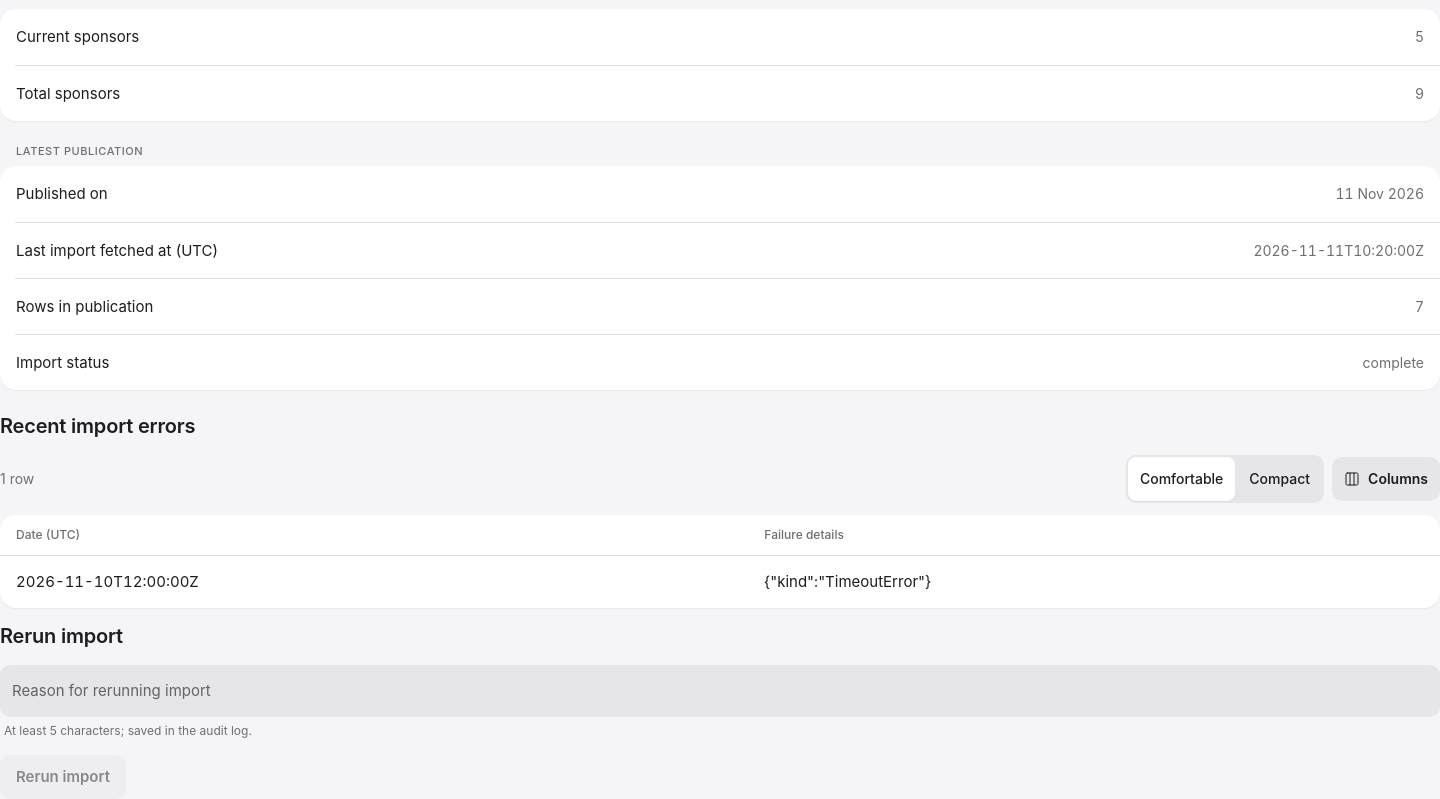
Test case: requires five trimmed characters then confirms and queues only the safe endpoint
This screenshot has width=1440, height=799.
(page scrolled)
Expected: the button "Rerun import" is disabled, [0, 754, 126, 798]
In the field labelled "Reason for rerunning import": {"x": 694, "y": 690} [12, 664, 1376, 716], type "    abcd    "
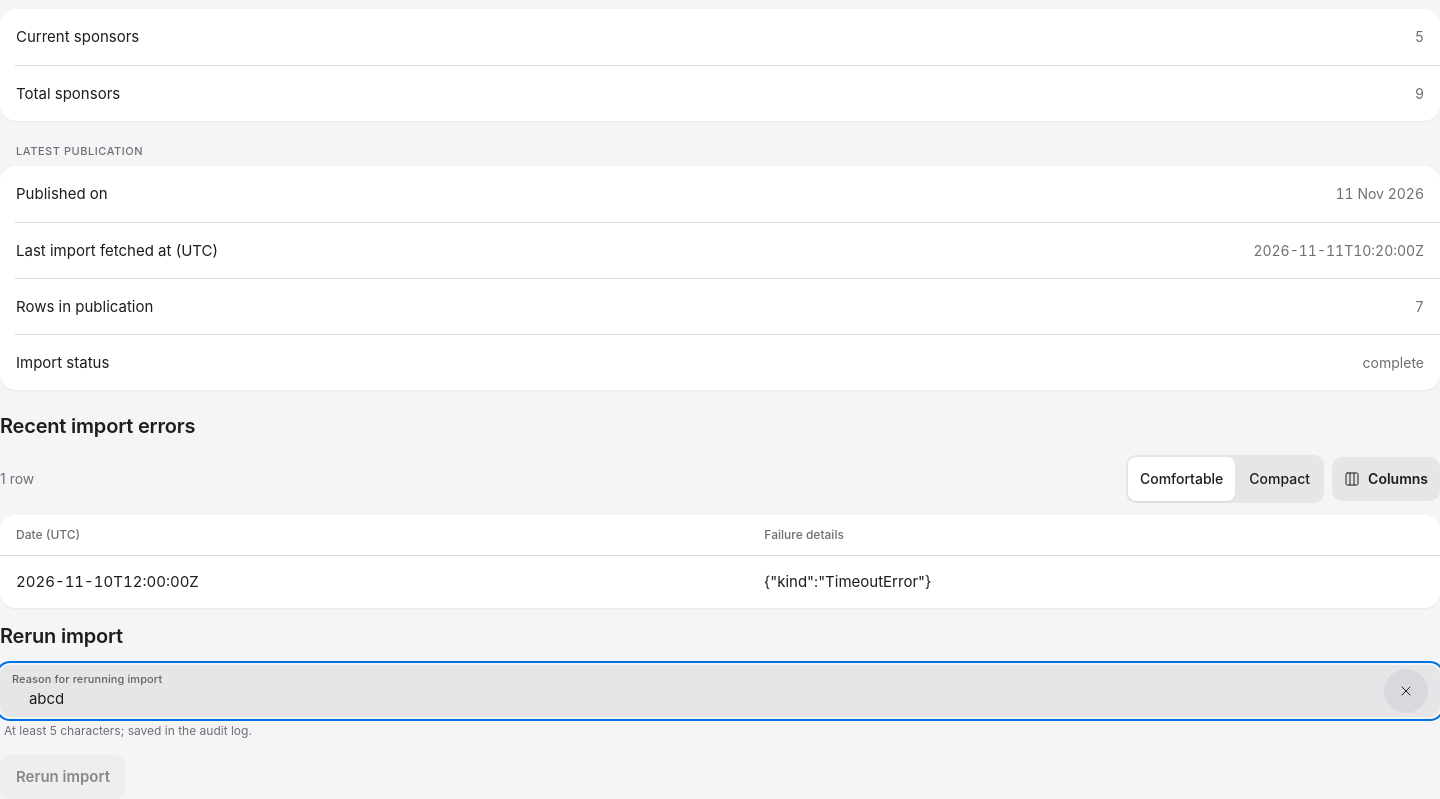
Expected: the button "Rerun import" is disabled, [0, 754, 126, 798]
Replace the text in the field labelled "Reason for rerunning import" with "  Source recovered  ": {"x": 694, "y": 690} [12, 664, 1376, 716]
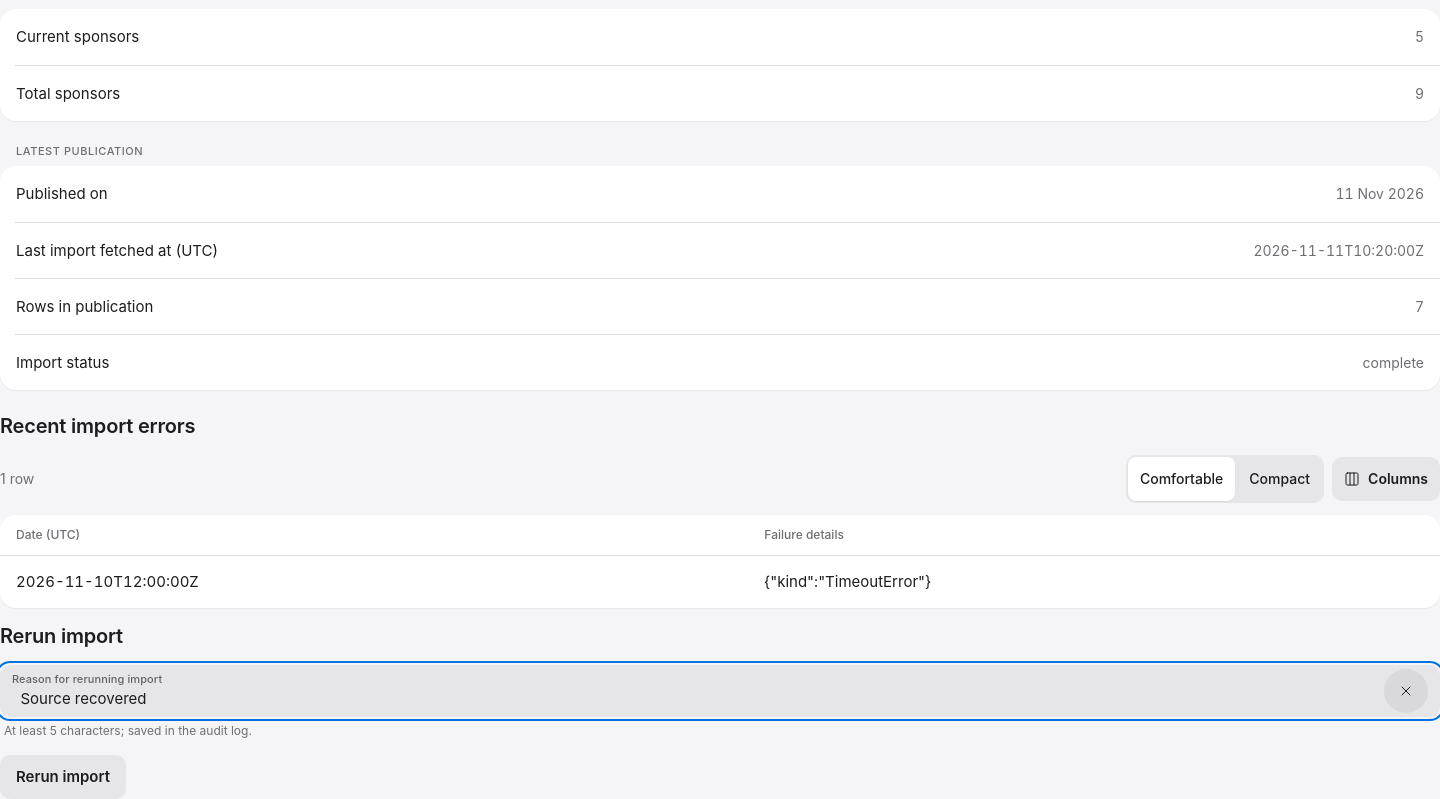
Click the button "Rerun import": {"x": 63, "y": 776} [0, 754, 126, 798]
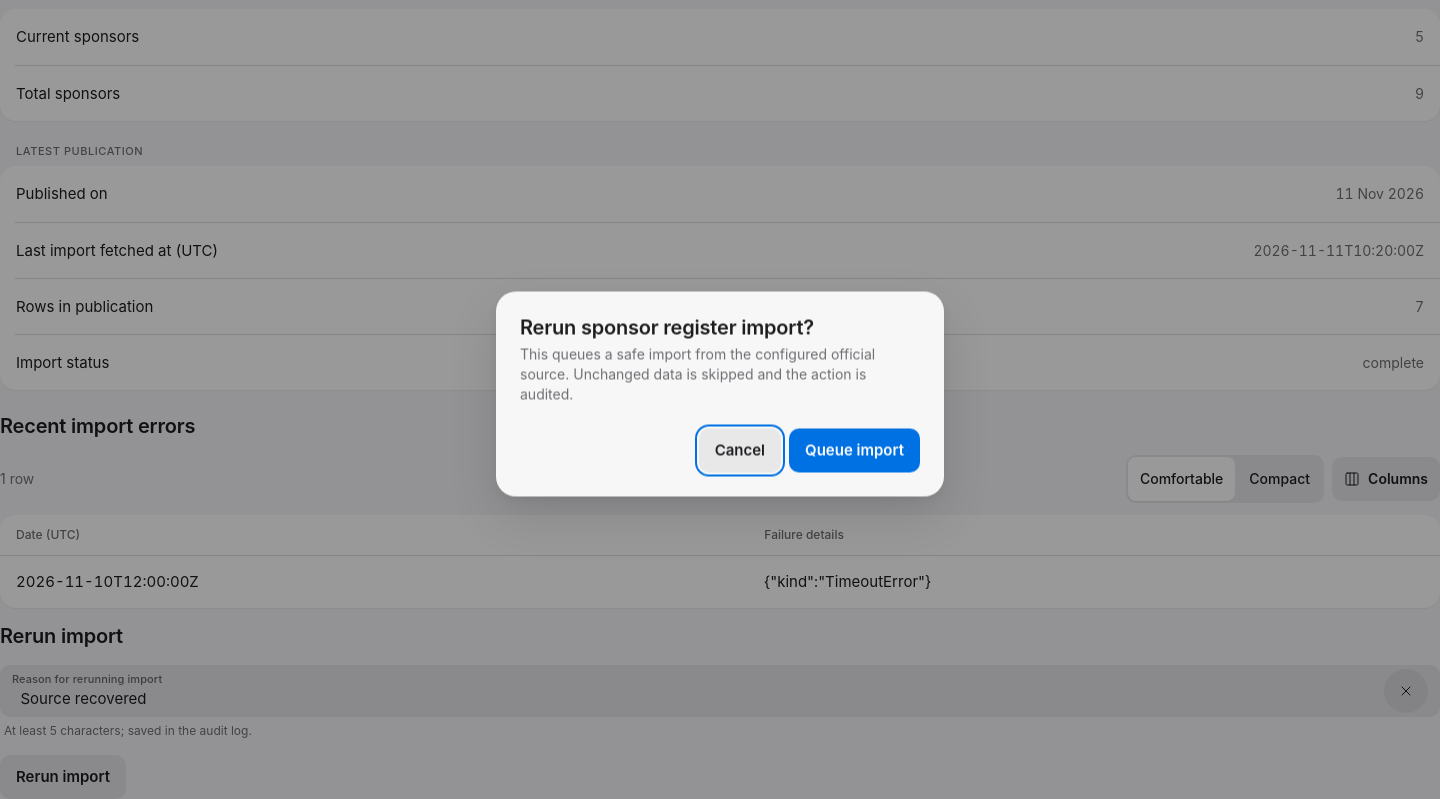
Click the button "Queue import": {"x": 855, "y": 450} [789, 428, 920, 472]
(page scrolled)
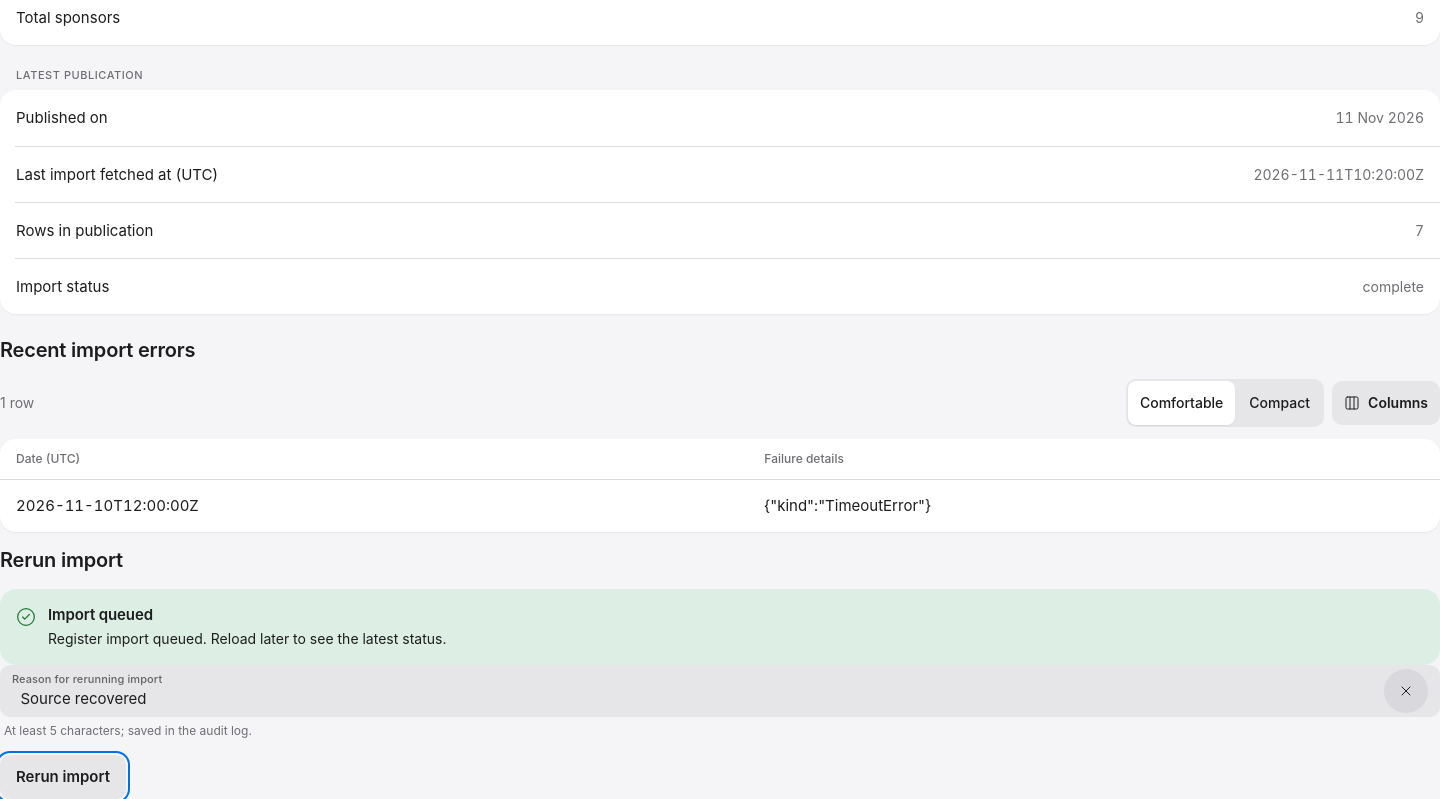
Now the text "Import queued" is shown, box [48, 604, 153, 624]
